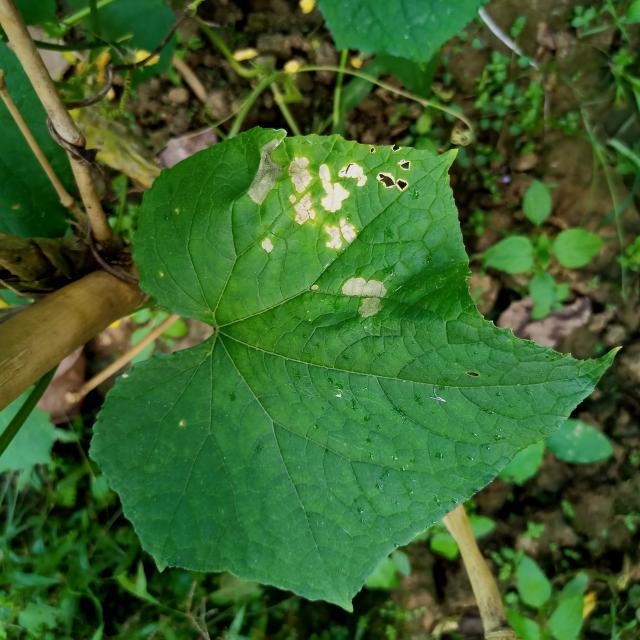disease_cucumber: (245, 137, 429, 326)
